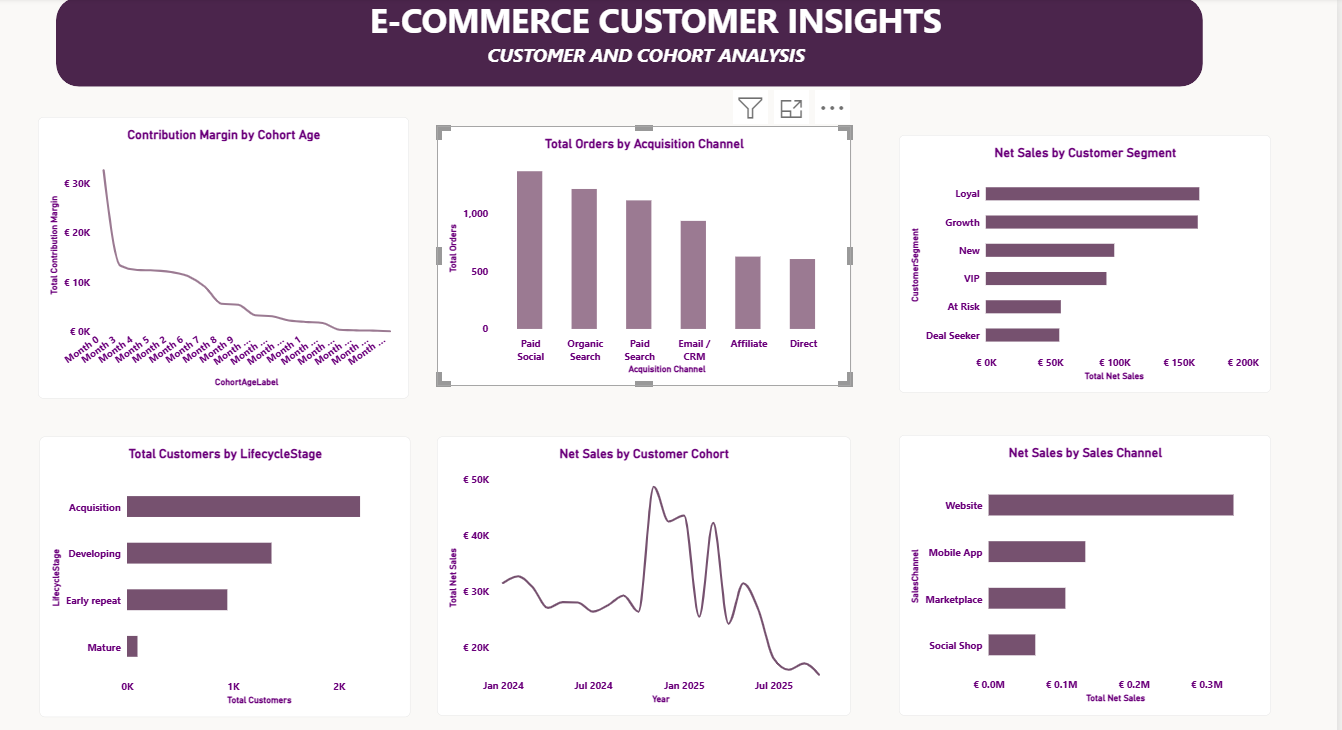

What the dashboard file says about the page in this screenshot:
{"tool":"powerbi","page":{"name":"Page 2","canvas":[1920,1080],"ordinal":1},"visuals":[{"type":"shape","box":[85.7,0,1642.9,128.6],"z":0},{"type":"textbox","box":[84.4,0,1722.2,64.4],"z":1000},{"type":"clusteredBarChart","title":"Net Sales by Customer Segment","fields":{"Category":["DimCustomer.CustomerSegment"],"Y":["FactOrderLine.Total Net Sales"]},"box":[1293.4,197.7,532.8,369.6],"z":2000},{"type":"clusteredColumnChart","title":"Total Orders by Acquisition Channel","fields":{"Category":["DimCustomer.AcquisitionChannel"],"Y":["FactOrderLine.Total Orders"]},"box":[631.7,184.8,593,371.7],"z":3000},{"type":"lineChart","title":"Net Sales by Customer Cohort","fields":{"Category":["DimCustomer.CohortMonth.Variation.Date Hierarchy.Year","DimCustomer.CohortMonth.Variation.Date Hierarchy.Quarter","DimCustomer.CohortMonth.Variation.Date Hierarchy.Month","DimCustomer.CohortMonth.Variation.Date Hierarchy.Day"],"Y":["FactOrderLine.Total Net Sales"]},"box":[632.5,630,592.5,400],"z":4000},{"type":"clusteredBarChart","fields":{"Category":["DimCohortAge.LifecycleStage"],"Y":["FactOrderLine.Total Customers"]},"box":[62.1,629.3,531,401.7],"z":5000},{"type":"lineChart","title":"Contribution Margin by Cohort Age","fields":{"Category":["DimCohortAge.CohortAgeLabel"],"Y":["FactOrderLine.Total Contribution Margin"]},"box":[60,172.5,531,403.4],"z":6000},{"type":"clusteredBarChart","title":"Net Sales by Sales Channel","fields":{"Category":["DimSalesChannel.SalesChannel"],"Y":["FactOrderLine.Total Net Sales"]},"box":[1293.1,627.6,532.8,401.7],"z":7000},{"type":"textbox","box":[484.4,64.4,895.6,64.4],"z":8000}]}

Visuals, with their boxes on the page's 1920x1080 design canvas (x1, y1, x2, y2). These are canvas units, not pixel positions in the 1342x730 screenshot, which may show the page scaled, cropped or inside an application window:
shape: region(86, 0, 1729, 129)
textbox: region(84, 0, 1807, 64)
"Net Sales by Customer Segment" clusteredBarChart: region(1293, 198, 1826, 567)
"Total Orders by Acquisition Channel" clusteredColumnChart: region(632, 185, 1225, 556)
"Net Sales by Customer Cohort" lineChart: region(632, 630, 1225, 1030)
clusteredBarChart - DimCohortAge.LifecycleStage x FactOrderLine.Total Customers: region(62, 629, 593, 1031)
"Contribution Margin by Cohort Age" lineChart: region(60, 172, 591, 576)
"Net Sales by Sales Channel" clusteredBarChart: region(1293, 628, 1826, 1029)
textbox: region(484, 64, 1380, 129)
